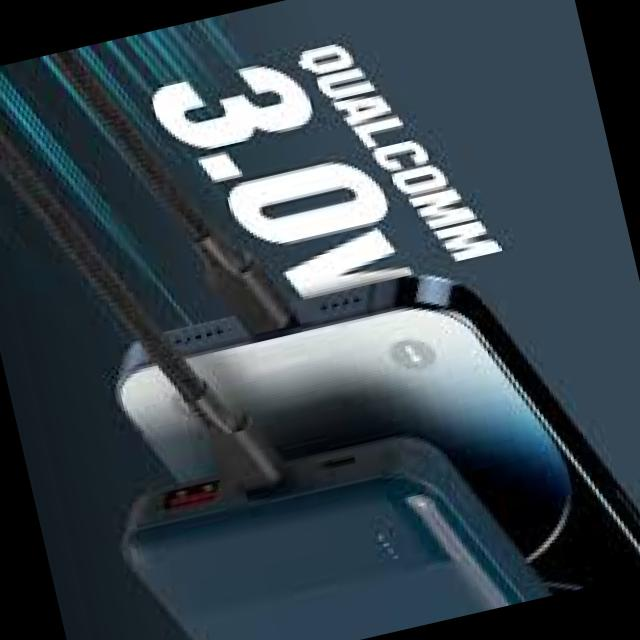power_bank: (109, 406, 551, 640)
